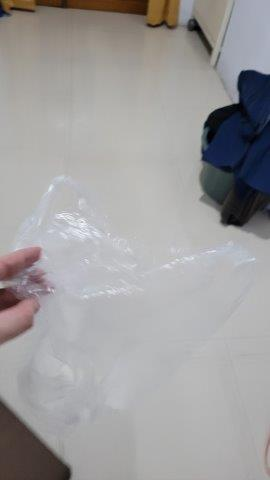plastik: (22, 175, 260, 431)
